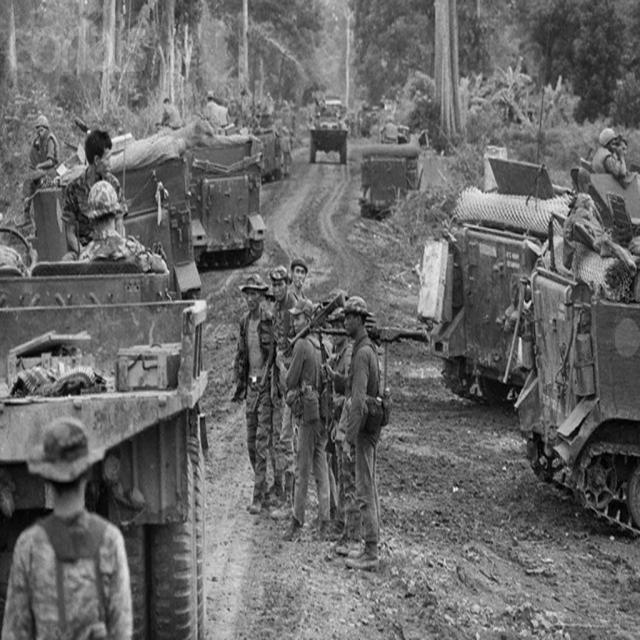tank: (414, 2, 592, 404), (512, 171, 639, 545), (57, 113, 202, 300), (158, 110, 268, 266)
